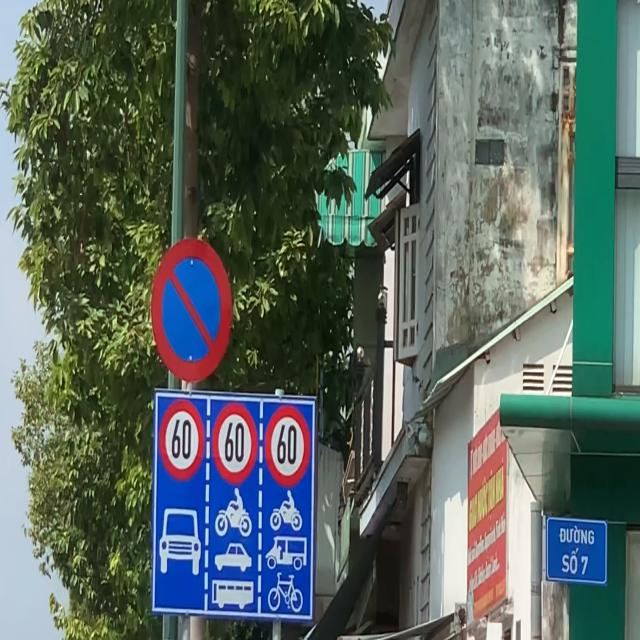Cam do: (150, 234, 240, 384)
Toc do toi da: (264, 400, 313, 486), (214, 395, 260, 485), (164, 398, 205, 480)
